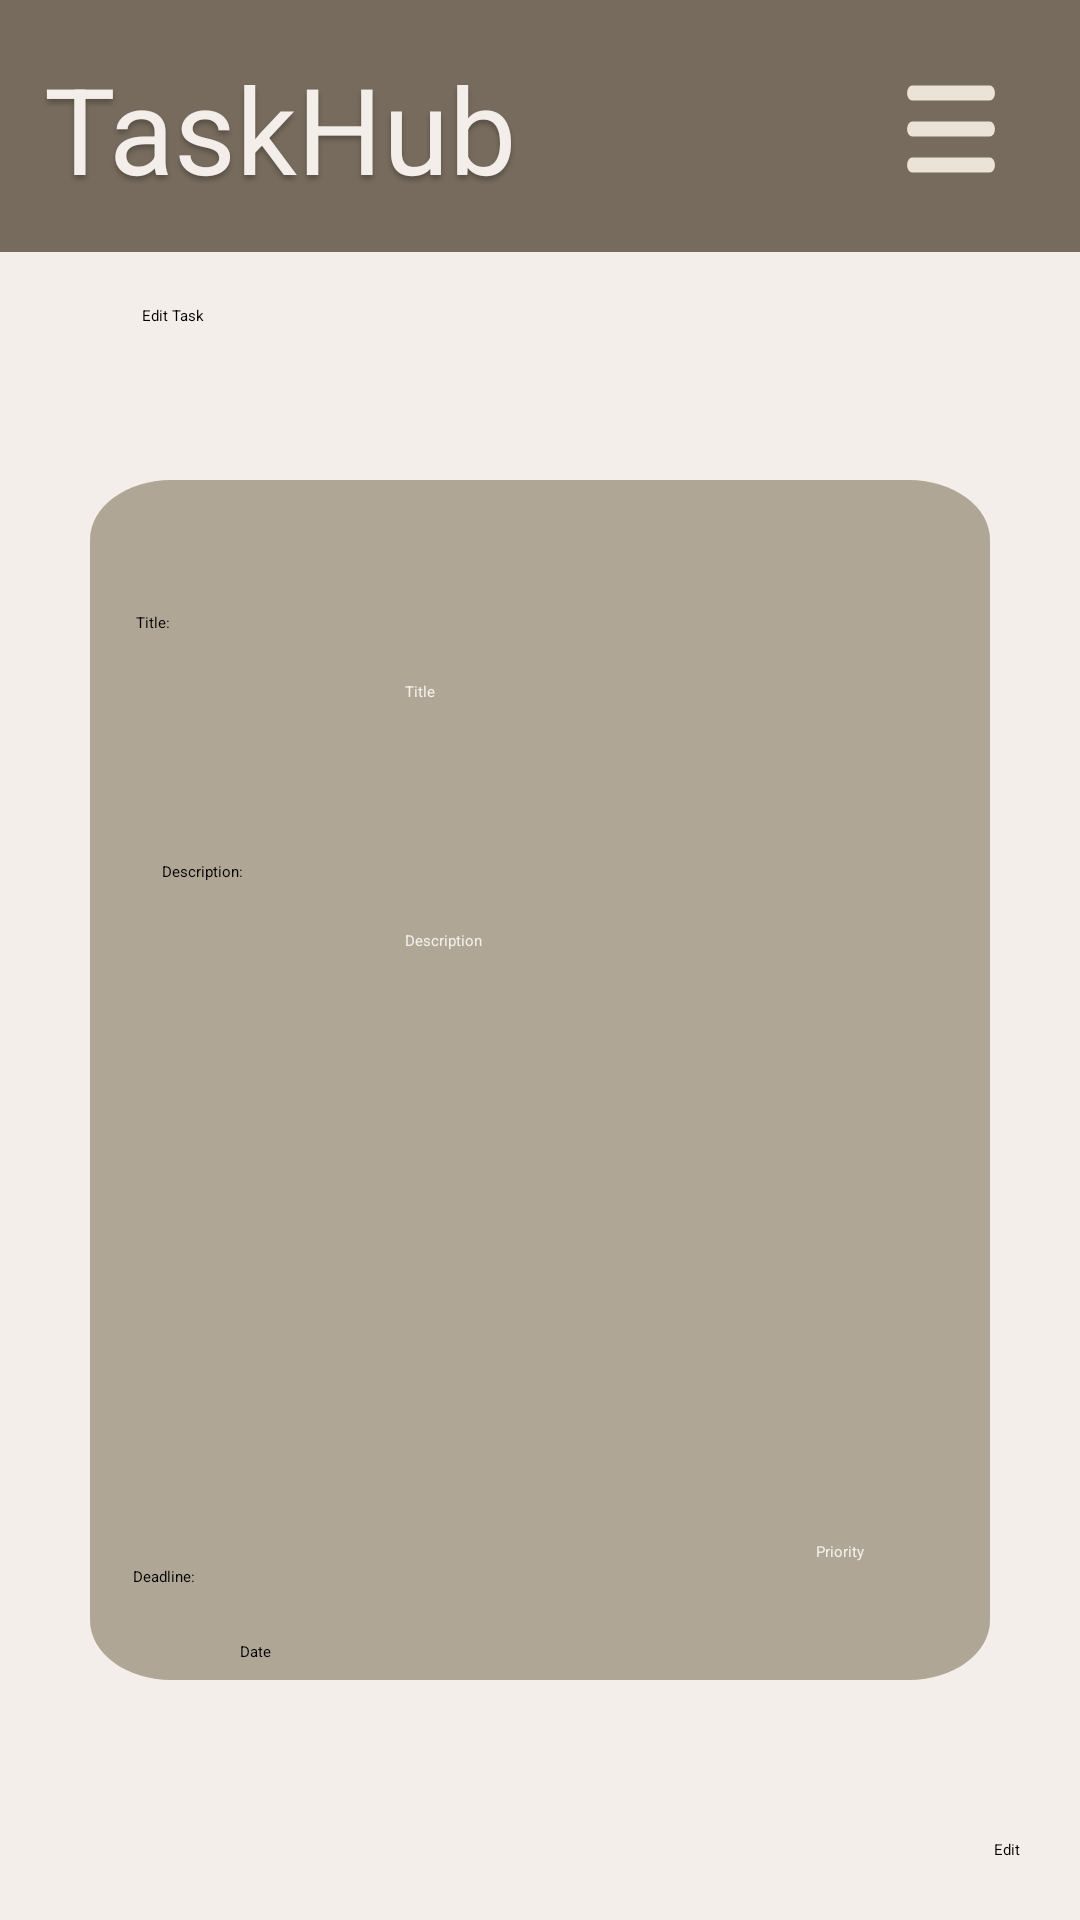

Screen size 1080 x 1920. Icon name, then its box in pixels as (x1, y1, x2, y2):
Open Navigation Menu: (907, 85, 995, 173)
